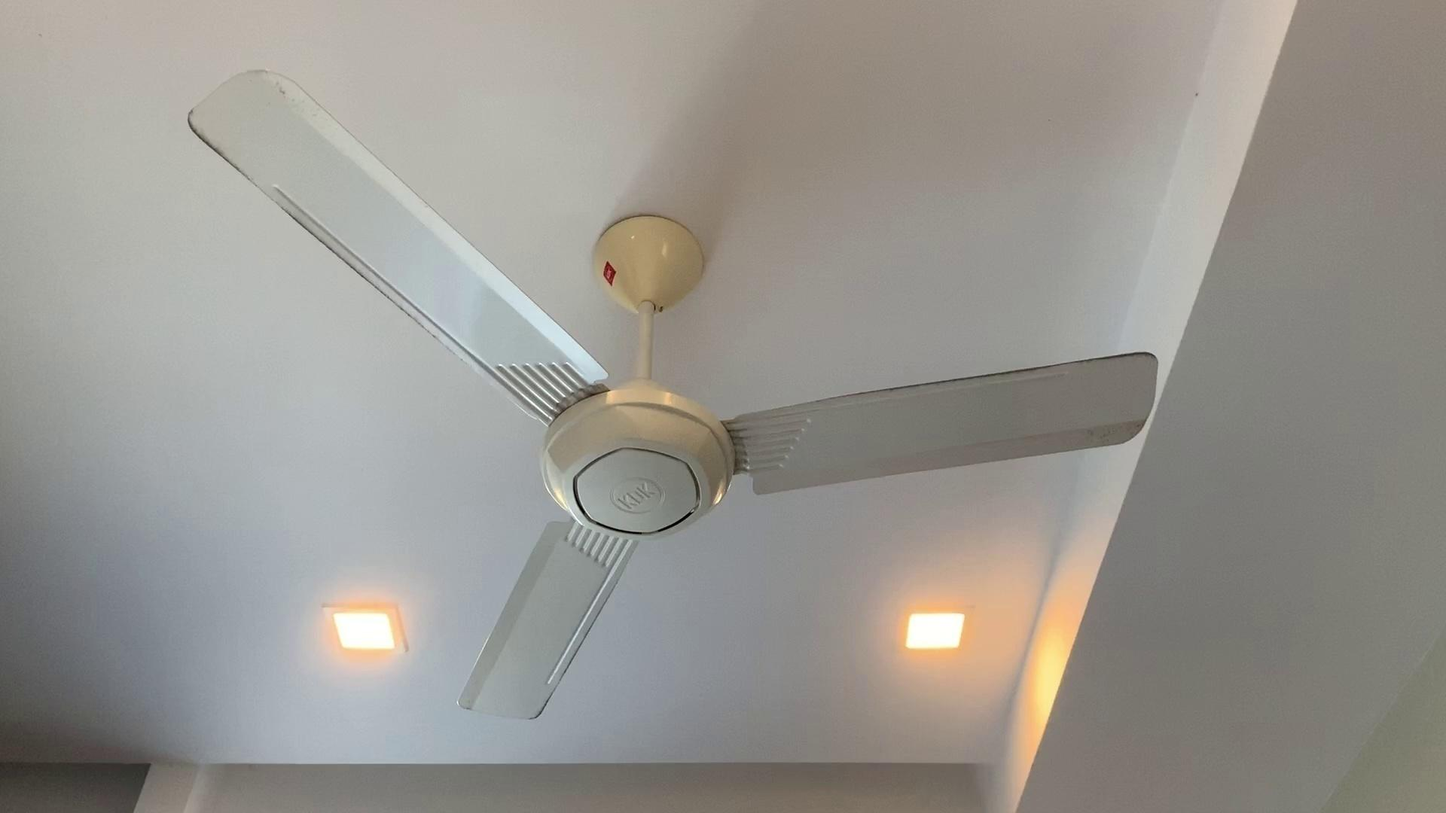fan: (174, 66, 1168, 748)
light: (895, 583, 996, 671), (312, 588, 419, 666)
